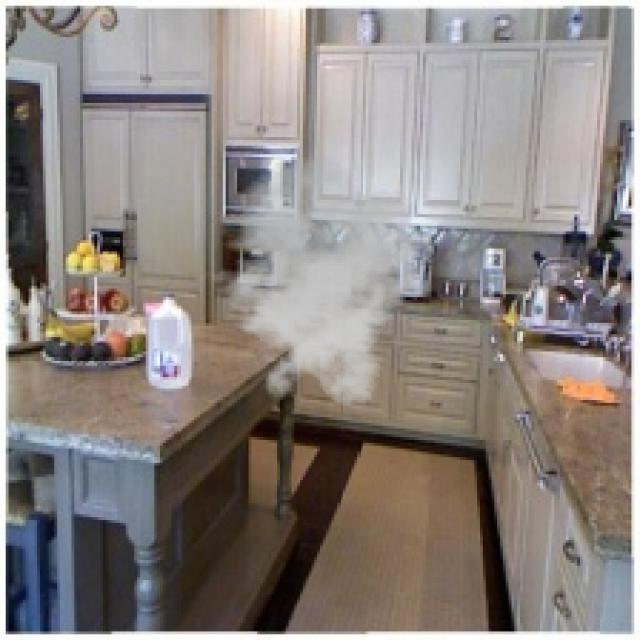smoke: (200, 154, 440, 409)
